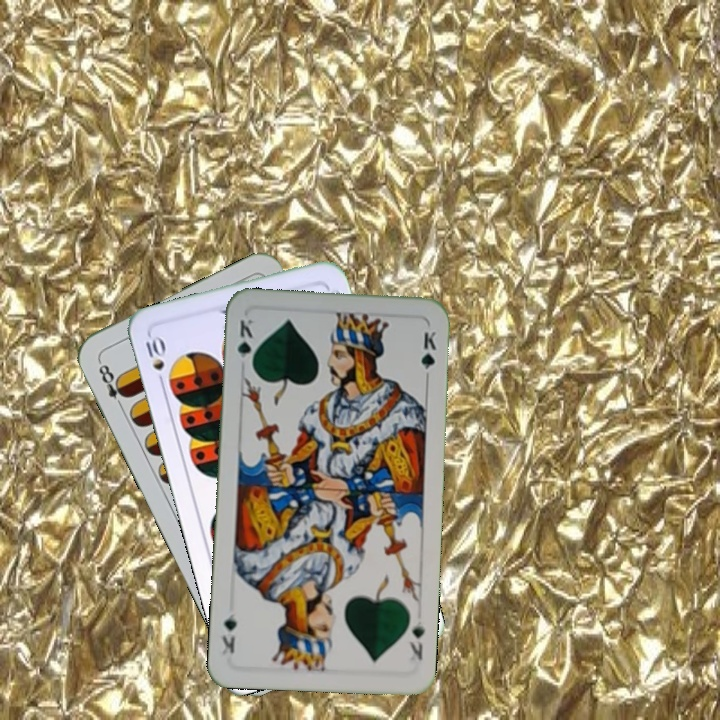E8: (94, 356, 131, 412)
GK: (234, 315, 257, 372), (404, 617, 427, 662)
S10: (141, 331, 168, 389)
